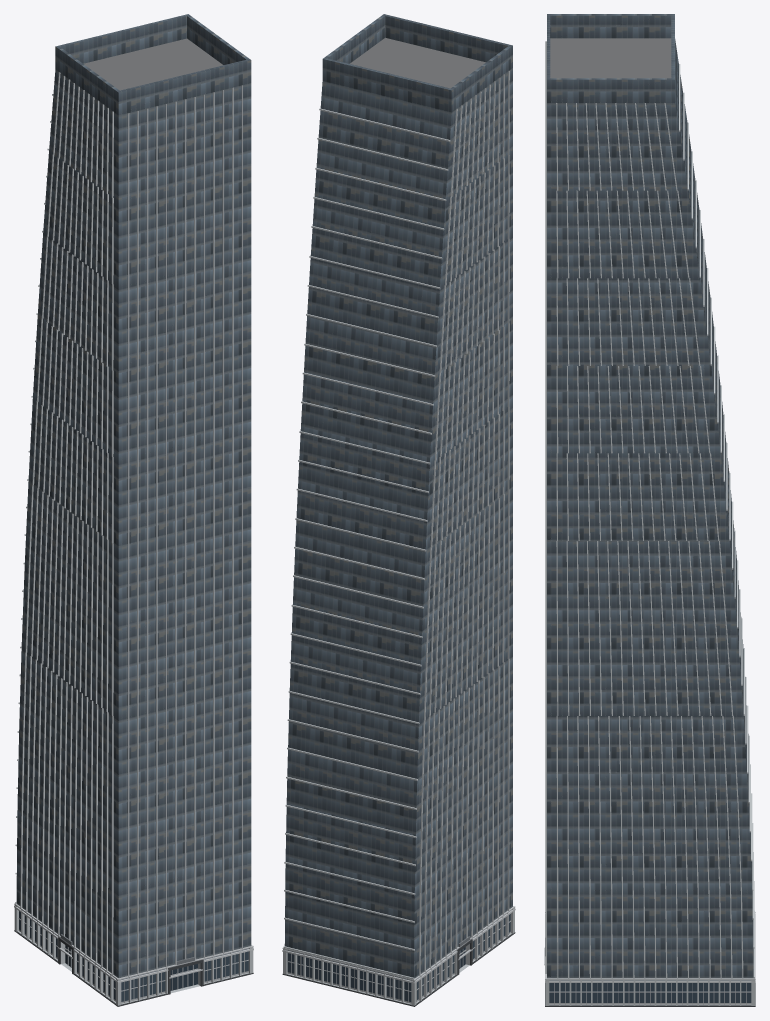
File: two_manhattan_west.glb
3 views of the same model, side by side, from view 1: azimuth 30°, elevation 25°; view 2: azimuth 150°, elevation 25°; view 3: azimuth 270°, elevation 25° (orthographic). The views are drawn at different scales.
Parts seen in each view (by area): view 1: two_manhattan_west; view 2: two_manhattan_west; view 3: two_manhattan_west.
Boxes of the visible parts, x1=… form: two_manhattan_west: x1=14, y1=14, x2=253, y2=1006; two_manhattan_west: x1=282, y1=14, x2=515, y2=1006; two_manhattan_west: x1=544, y1=14, x2=755, y2=1006.
Bounding box in the file's own units: 44.6 × 285 × 58.9.
2 materials, 2 textured.
